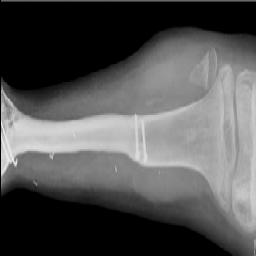cancer: (109, 37, 204, 110)
